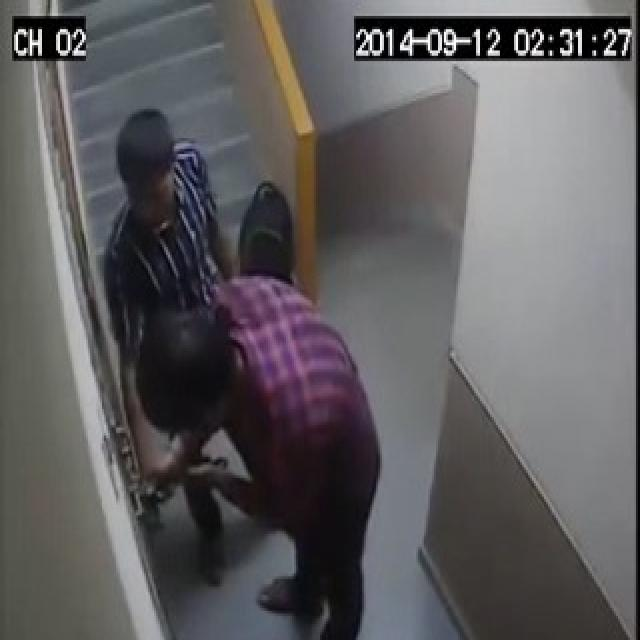burglary: (62, 298, 268, 583)
